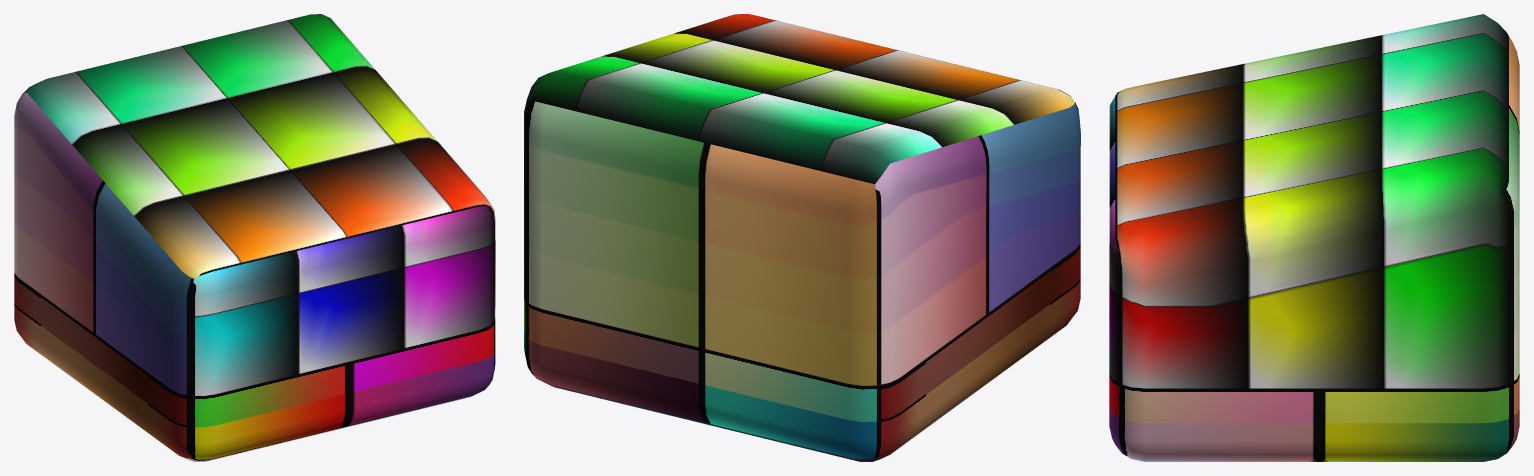
Rendered from endCubes.fbx.
The picture shows the model from 3 angles, left to right: view 1: azimuth 30°, elevation 25°; view 2: azimuth 150°, elevation 25°; view 3: azimuth 270°, elevation 25°; orthographic projection. The views are drawn at different scales.
Visible parts, largest first — view 1: up, down; view 2: up, down; view 3: up, down.
Part boxes in pixels (x1,y1,x2,y2): up: (14, 14, 495, 395); down: (14, 273, 495, 461); up: (524, 14, 1080, 385); down: (524, 243, 1080, 461); up: (1109, 14, 1519, 388); down: (1109, 243, 1519, 461).
Bounding box in the file's own units: 200 × 160 × 200.
